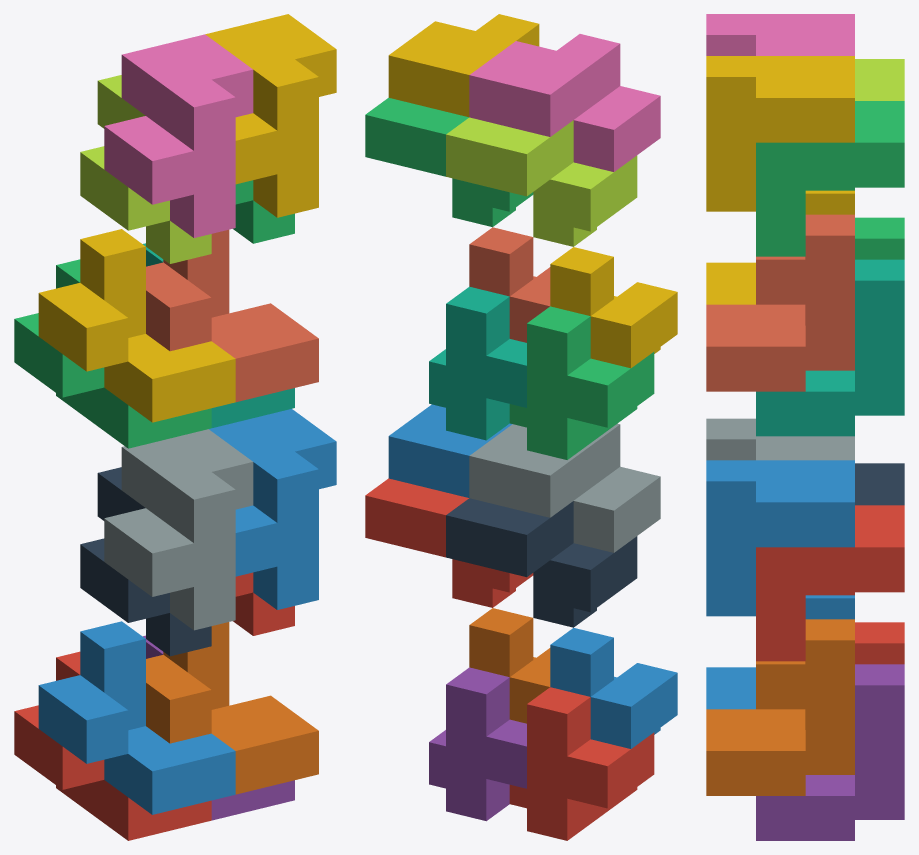
The model's file is tiling.obj.
3 renders of one model, left to right at view 1: azimuth 30°, elevation 25°; view 2: azimuth 150°, elevation 25°; view 3: azimuth 270°, elevation 25°, orthographic. The views are drawn at different scales.
Parts seen in each view (by area): view 1: copy_2_domain_4, copy_2_domain_2, copy_1_domain_4, copy_1_domain_2, copy_2_domain_8, copy_2_domain_6, copy_1_domain_6, copy_1_domain_8, copy_1_domain_3, copy_1_domain_1, copy_2_domain_1, copy_2_domain_3 (+4 smaller); view 2: copy_2_domain_4, copy_2_domain_2, copy_2_domain_3, copy_2_domain_1, copy_1_domain_1, copy_1_domain_3, copy_1_domain_5, copy_1_domain_7, copy_1_domain_2, copy_1_domain_4, copy_2_domain_8, copy_2_domain_7 (+4 smaller); view 3: copy_1_domain_8, copy_1_domain_6, copy_2_domain_6, copy_2_domain_8, copy_1_domain_7, copy_1_domain_5, copy_2_domain_5, copy_2_domain_7, copy_2_domain_4, copy_2_domain_2, copy_1_domain_2, copy_1_domain_4 (+4 smaller).
Part boxes in pixels (x1=…): copy_2_domain_4: x1=104, y1=34, x2=253, y2=237; copy_2_domain_2: x1=104, y1=429, x2=253, y2=630; copy_1_domain_4: x1=38, y1=229, x2=235, y2=422; copy_1_domain_2: x1=38, y1=621, x2=235, y2=814; copy_2_domain_8: x1=205, y1=14, x2=336, y2=217; copy_2_domain_6: x1=209, y1=409, x2=336, y2=609; copy_1_domain_6: x1=146, y1=622, x2=318, y2=794; copy_1_domain_8: x1=146, y1=229, x2=318, y2=402; copy_1_domain_3: x1=14, y1=259, x2=211, y2=448; copy_1_domain_1: x1=14, y1=651, x2=211, y2=840; copy_2_domain_1: x1=80, y1=467, x2=211, y2=656; copy_2_domain_3: x1=80, y1=75, x2=211, y2=263; copy_2_domain_4: x1=469, y1=34, x2=660, y2=171; copy_2_domain_2: x1=469, y1=423, x2=660, y2=552; copy_2_domain_3: x1=446, y1=117, x2=637, y2=246; copy_2_domain_1: x1=446, y1=498, x2=637, y2=627; copy_1_domain_1: x1=509, y1=687, x2=654, y2=840; copy_1_domain_3: x1=509, y1=306, x2=654, y2=459; copy_1_domain_5: x1=429, y1=667, x2=526, y2=821; copy_1_domain_7: x1=429, y1=286, x2=526, y2=440; copy_1_domain_2: x1=550, y1=627, x2=677, y2=748; copy_1_domain_4: x1=550, y1=247, x2=677, y2=368; copy_2_domain_8: x1=388, y1=14, x2=539, y2=117; copy_2_domain_7: x1=365, y1=97, x2=533, y2=227; copy_1_domain_8: x1=706, y1=214, x2=854, y2=391; copy_1_domain_6: x1=706, y1=619, x2=854, y2=795; copy_2_domain_6: x1=706, y1=460, x2=854, y2=616; copy_2_domain_8: x1=706, y1=56, x2=854, y2=211; copy_1_domain_7: x1=756, y1=259, x2=904, y2=436; copy_1_domain_5: x1=756, y1=664, x2=904, y2=840; copy_2_domain_5: x1=756, y1=505, x2=904, y2=661; copy_2_domain_7: x1=756, y1=101, x2=904, y2=256; copy_2_domain_4: x1=706, y1=14, x2=854, y2=55; copy_2_domain_2: x1=706, y1=418, x2=854, y2=460; copy_1_domain_2: x1=706, y1=595, x2=854, y2=709; copy_1_domain_4: x1=706, y1=190, x2=854, y2=304.
Bounding box in the file's own units: 6 × 17 × 4.
